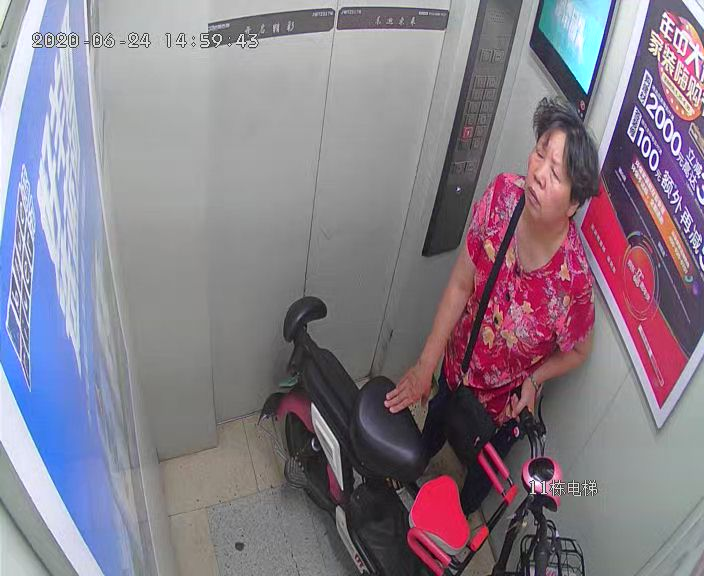Electric-bicycle: (281, 298, 579, 576)
